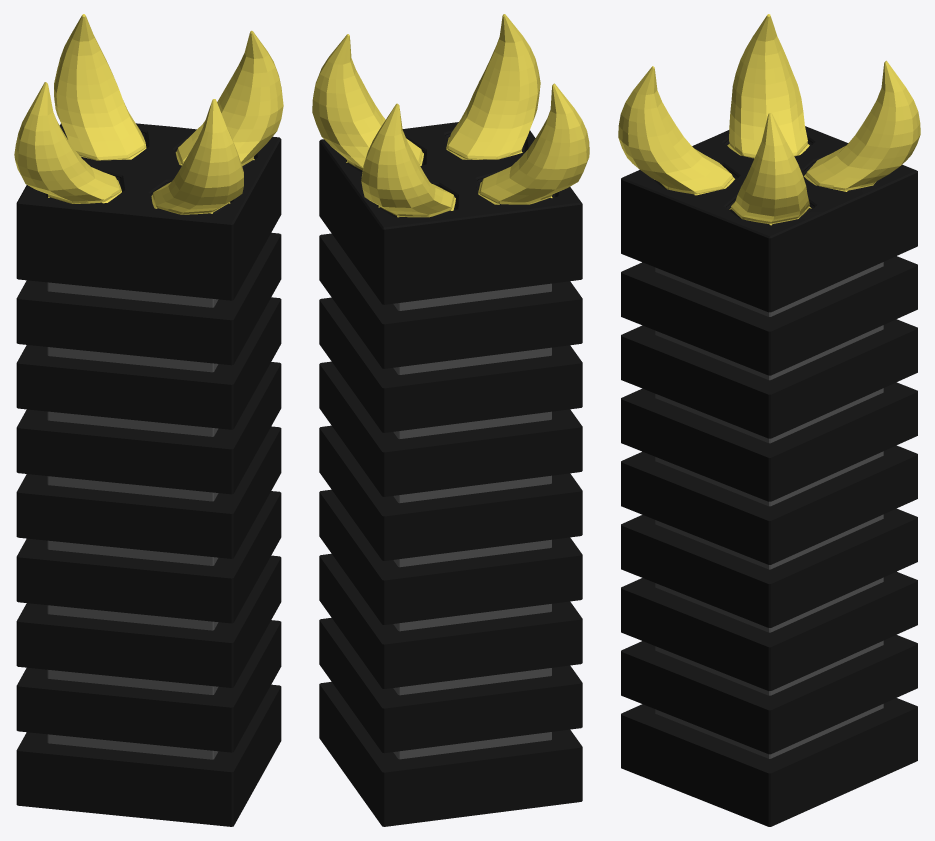
The model's file is IngredientPlinth.fbx.
3 views of the same model, side by side, from view 1: azimuth 30°, elevation 25°; view 2: azimuth 150°, elevation 25°; view 3: azimuth 270°, elevation 25° (orthographic). The views are drawn at different scales.
Parts seen in each view (by area): view 1: Cube.021; view 2: Cube.021; view 3: Cube.021.
Part boxes in pixels (left/top/right/bottom): Cube.021: left=14, top=14, right=283, bottom=826; Cube.021: left=312, top=14, right=589, bottom=826; Cube.021: left=618, top=14, right=920, bottom=826.
Size of the model in its own units: 103 by 264 by 103.
